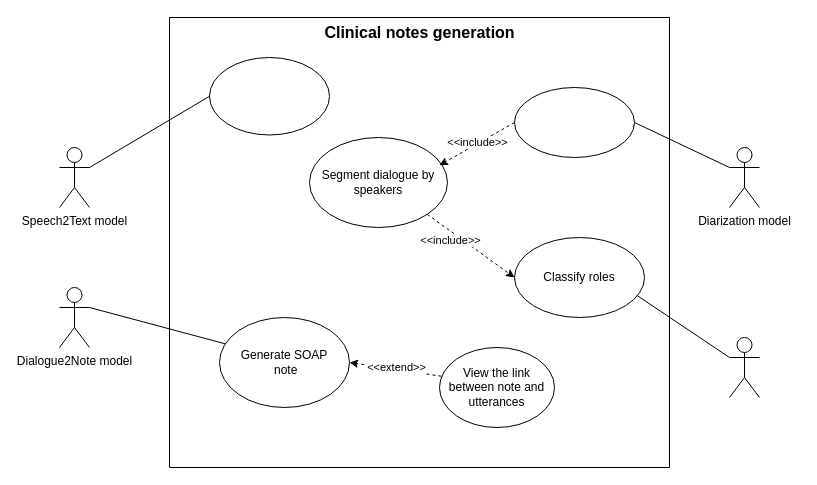
This 817x485 diagram has some shape labels left out. The centre of each missing label's shape, as x and y in pixels:
"Convert speech to text in word-level" belongs at (x=269, y=95).
"Detect speakers" belongs at (x=574, y=122).
"Role classifier model" belongs at (x=744, y=367).
